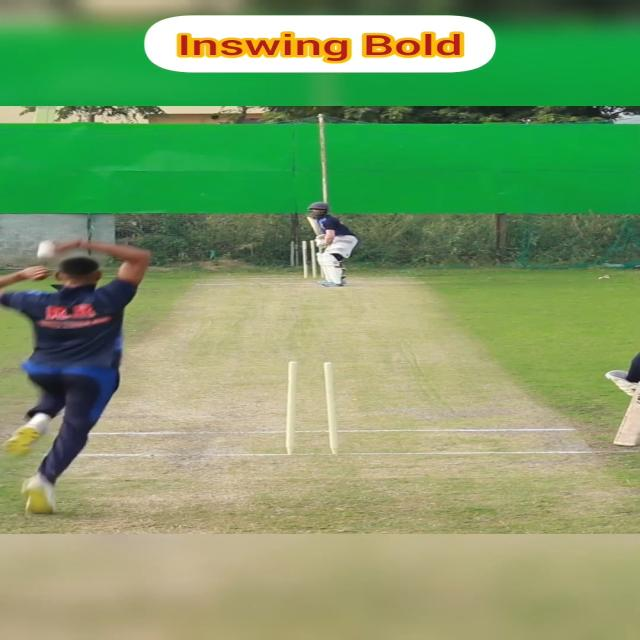stump: (283, 360, 341, 455), (300, 240, 328, 280)
